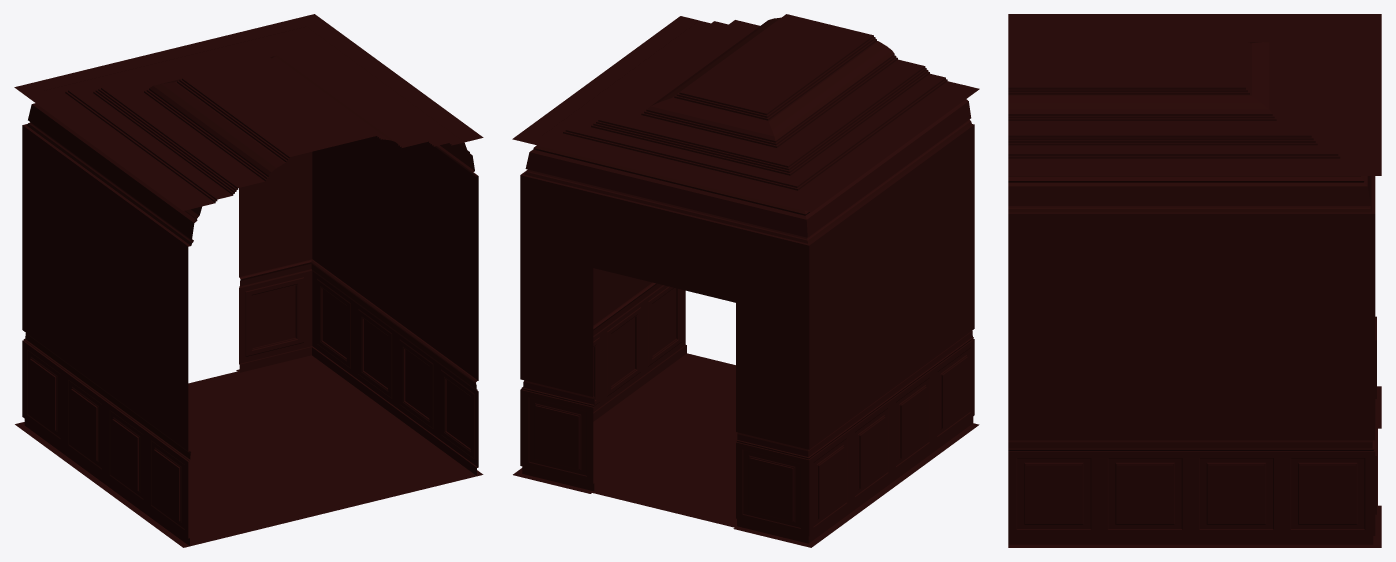
Rendered from lift_hallway_v1.0.FBX.
The picture shows the model from 3 angles, left to right: view 1: azimuth 30°, elevation 25°; view 2: azimuth 150°, elevation 25°; view 3: azimuth 270°, elevation 25°; orthographic projection. The views are drawn at different scales.
Visible parts, largest first — view 1: hallway_lift; view 2: hallway_lift; view 3: hallway_lift.
Boxes of the visible parts, x1,y1,x2,y2 form: hallway_lift: (14,14,483,547); hallway_lift: (512,14,979,547); hallway_lift: (1008,14,1381,547).
Size of the model in its own units: 165 by 161 by 192.
